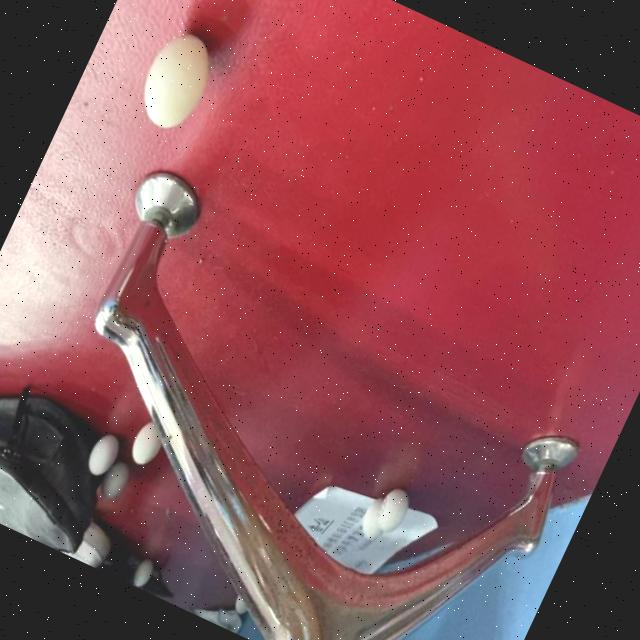ping-pong-ball: (124, 19, 226, 144), (364, 477, 418, 545), (76, 422, 128, 486), (120, 412, 172, 475)
